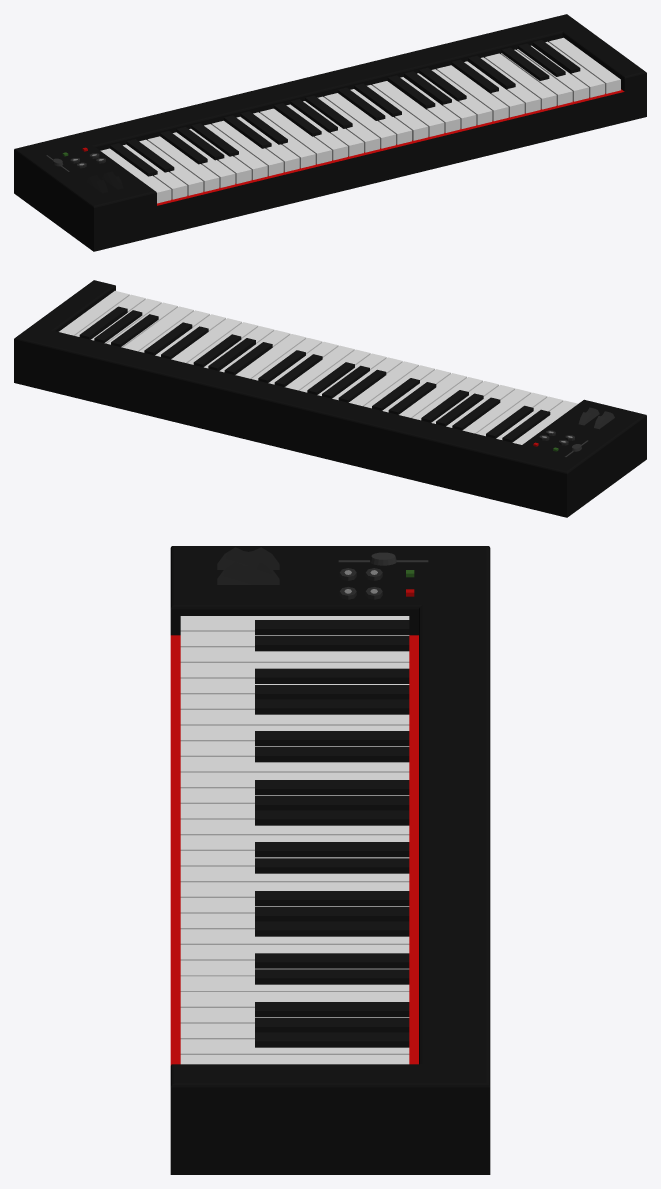
Rendered from Midi Keyboard02.fbx.
3 views of the same model, one above another, from view 1: azimuth 30°, elevation 25°; view 2: azimuth 150°, elevation 25°; view 3: azimuth 270°, elevation 25° (orthographic). The views are drawn at different scales.
Parts seen in each view (by area): view 1: 49keysmidi.002; view 2: 49keysmidi.002; view 3: 49keysmidi.002.
Boxes of the visible parts, x1=… form: 49keysmidi.002: x1=14, y1=14, x2=646, y2=251; 49keysmidi.002: x1=14, y1=280, x2=646, y2=517; 49keysmidi.002: x1=170, y1=546, x2=490, y2=1174.
Bounding box in the file's own units: 80 × 7.44 × 20.
